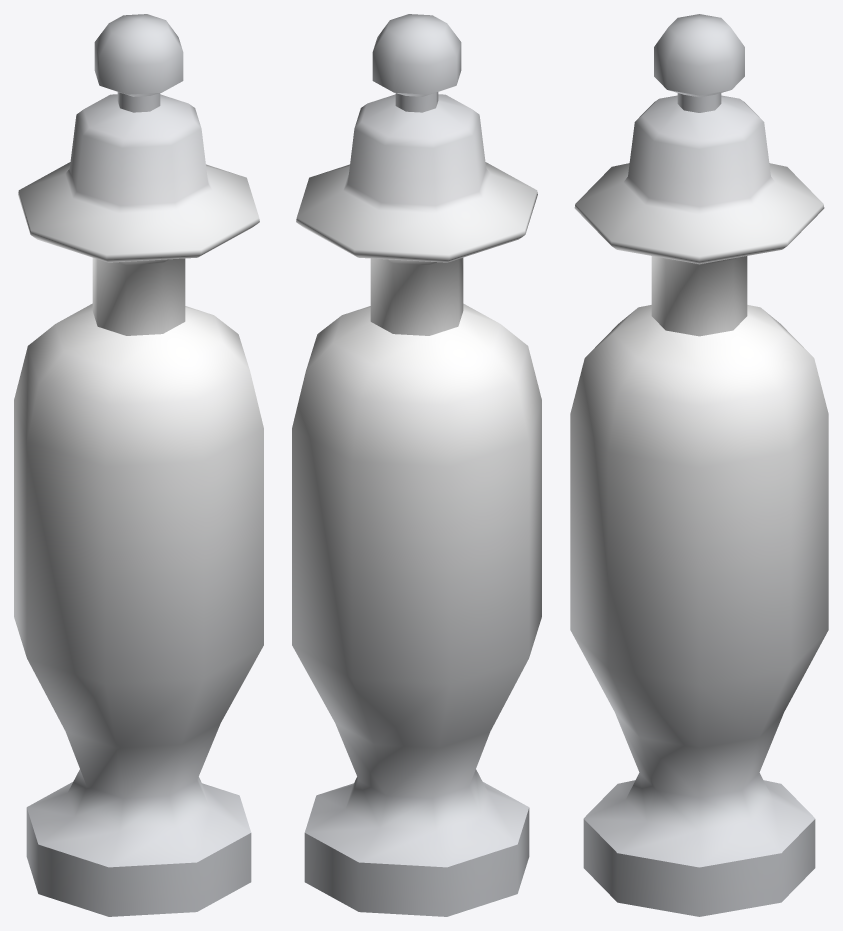
The model's file is Vase_Elegant002.fbx.
The picture shows the model from 3 angles, left to right: view 1: azimuth 30°, elevation 25°; view 2: azimuth 150°, elevation 25°; view 3: azimuth 270°, elevation 25°; orthographic projection.
Parts seen in each view (by area): view 1: Vase_Elegant002; view 2: Vase_Elegant002; view 3: Vase_Elegant002.
Boxes of the visible parts, box(x1,y1,x2,y2) form: Vase_Elegant002: box(14, 14, 263, 916); Vase_Elegant002: box(292, 14, 541, 916); Vase_Elegant002: box(570, 14, 828, 916).
Size of the model in its own units: 9.99 by 36.19 by 9.99.
